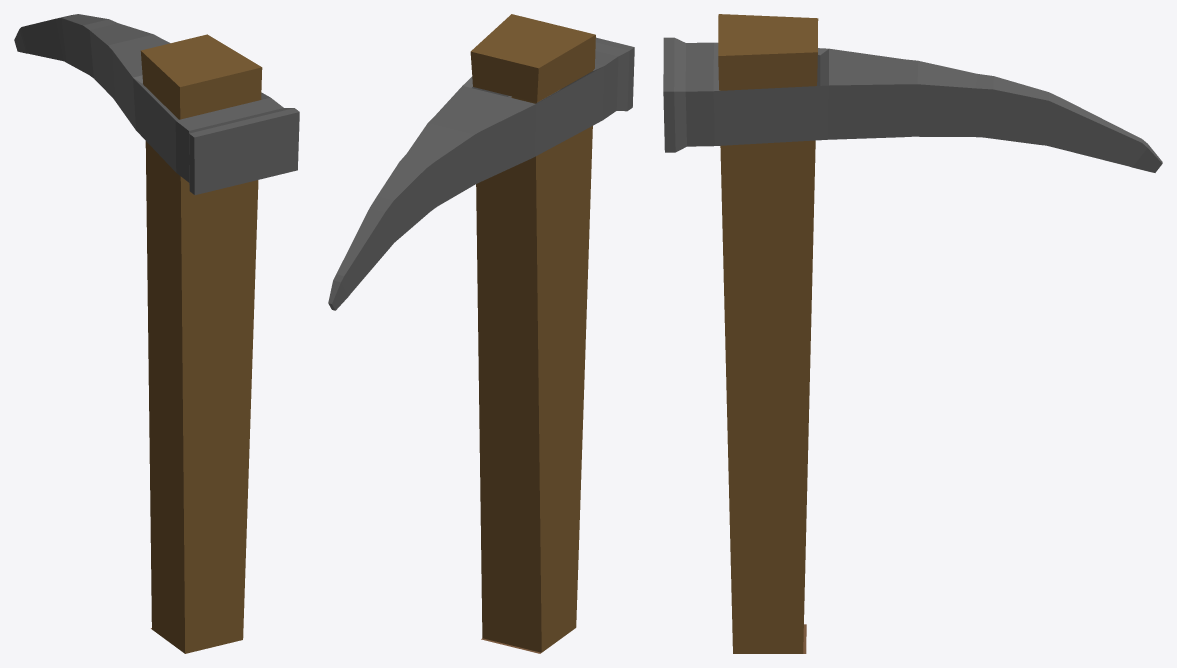
File: Pickaxe.fbx
3 views of the same model, side by side, from view 1: azimuth 30°, elevation 25°; view 2: azimuth 150°, elevation 25°; view 3: azimuth 270°, elevation 25° (orthographic). The views are drawn at different scales.
Visible parts, largest first — view 1: Pickaxe.002, Pickaxe.003; view 2: Pickaxe.002, Pickaxe.003; view 3: Pickaxe.002, Pickaxe.003.
Part boxes in pixels (x1,y1,x2,y2): Pickaxe.002: (140,34,262,653); Pickaxe.003: (14,14,299,629); Pickaxe.002: (470,14,595,652); Pickaxe.003: (328,37,634,653); Pickaxe.002: (718,14,818,653); Pickaxe.003: (663,37,1162,653).
Bounding box in the file's own units: 18.44 × 96.15 × 72.02.
